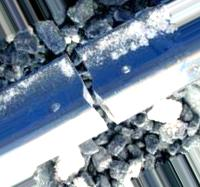tracks_fault: (57, 38, 135, 152)
